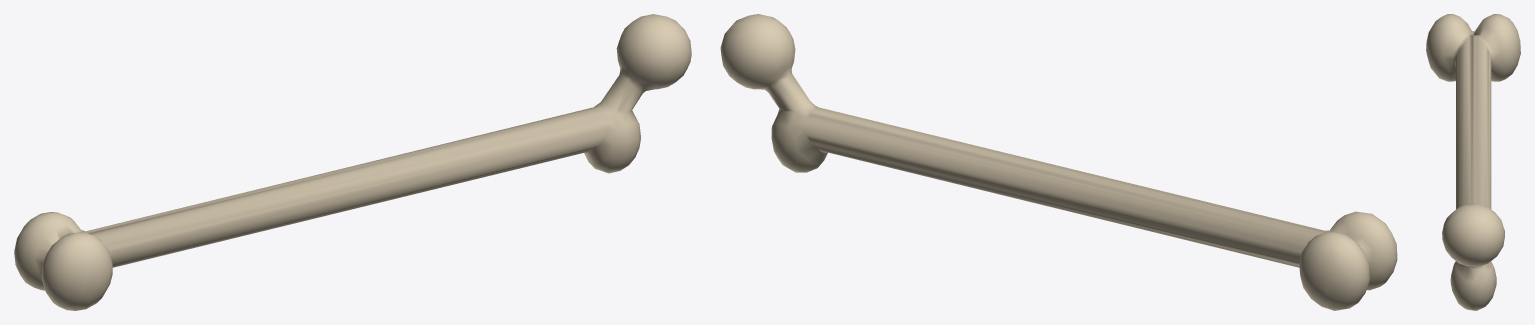
Rendered from femur.glb.
3 renders of one model, left to right at view 1: azimuth 30°, elevation 25°; view 2: azimuth 150°, elevation 25°; view 3: azimuth 270°, elevation 25°, orthographic. The views are drawn at different scales.
Parts seen in each view (by area): view 1: Cylinder; view 2: Cylinder; view 3: Cylinder.
Part boxes in pixels (x1=…): Cylinder: x1=14, y1=14, x2=691, y2=310; Cylinder: x1=720, y1=14, x2=1397, y2=310; Cylinder: x1=1426, y1=14, x2=1520, y2=310.
Size of the model in its own units: 0.441 by 0.0918 by 0.0657.
